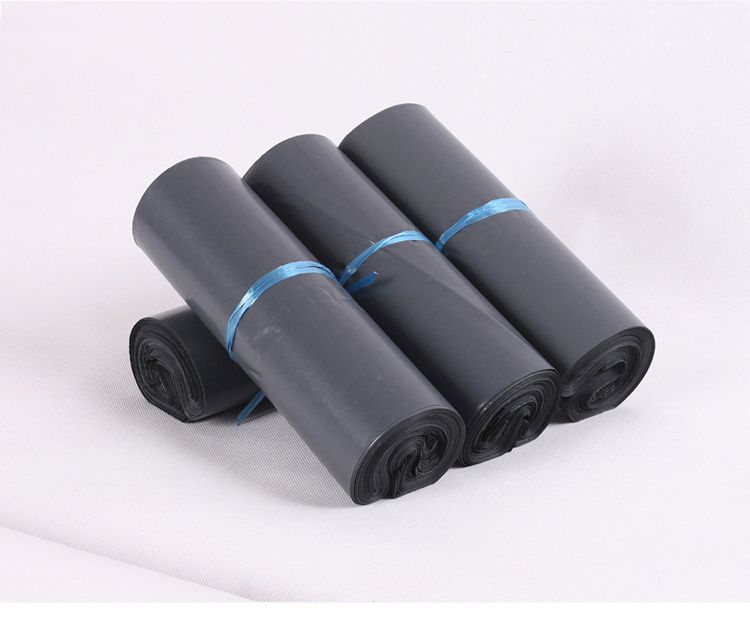塑料袋: (130, 104, 653, 504)
